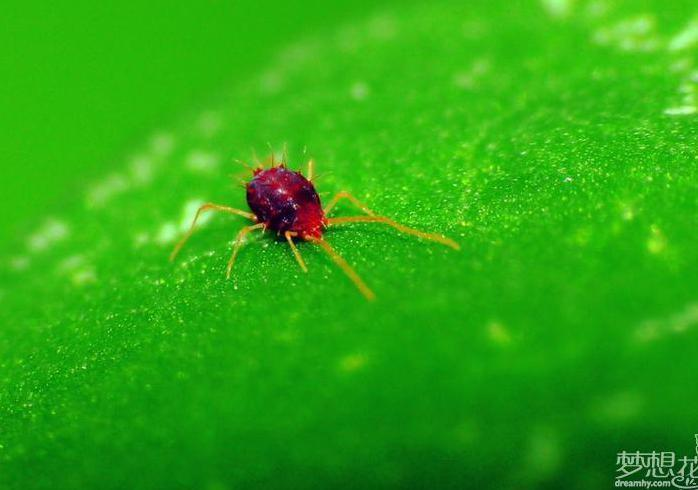tiny_pests: (141, 128, 469, 324)
